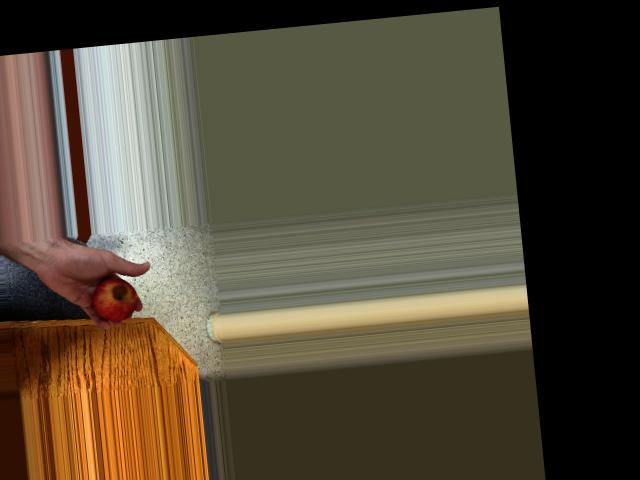apple: (82, 269, 147, 326)
